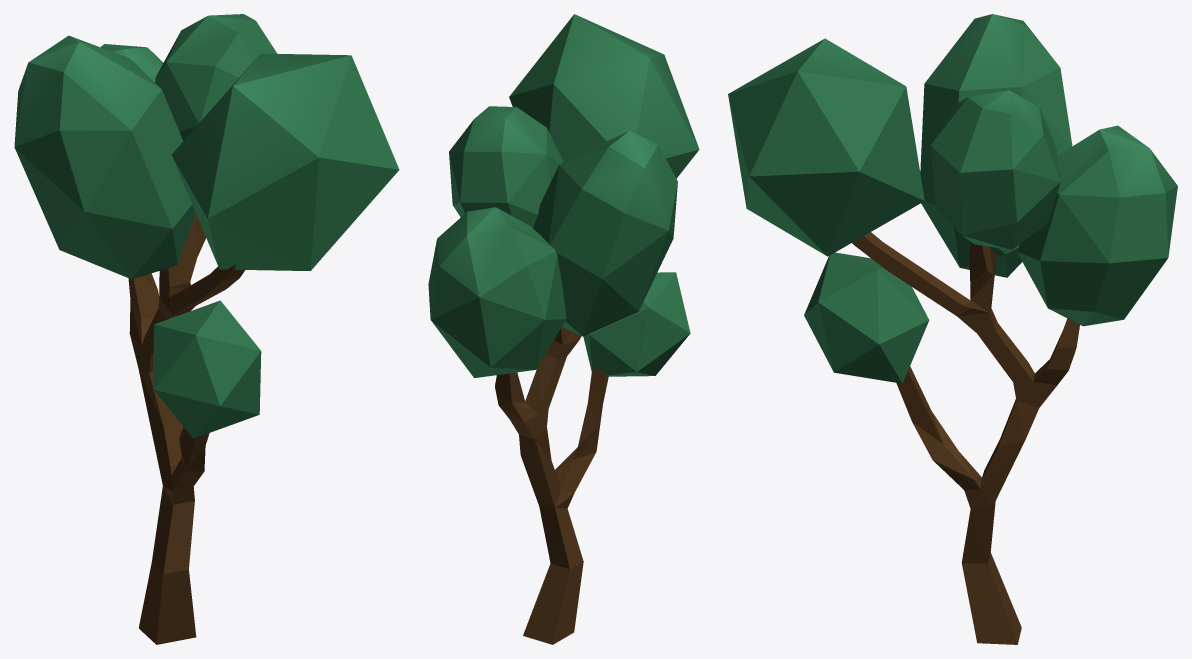
File: tree_6_2.fbx
3 renders of one model, left to right at view 1: azimuth 30°, elevation 25°; view 2: azimuth 150°, elevation 25°; view 3: azimuth 270°, elevation 25°, orthographic. The views are drawn at different scales.
Visible parts, largest first — view 1: tree_6_2; view 2: tree_6_2; view 3: tree_6_2.
Part boxes in pixels (x1=…): tree_6_2: x1=14, y1=14, x2=399, y2=644; tree_6_2: x1=428, y1=14, x2=699, y2=644; tree_6_2: x1=728, y1=14, x2=1177, y2=644.
Bounding box in the file's own units: 3.62 × 5.58 × 8.2.
